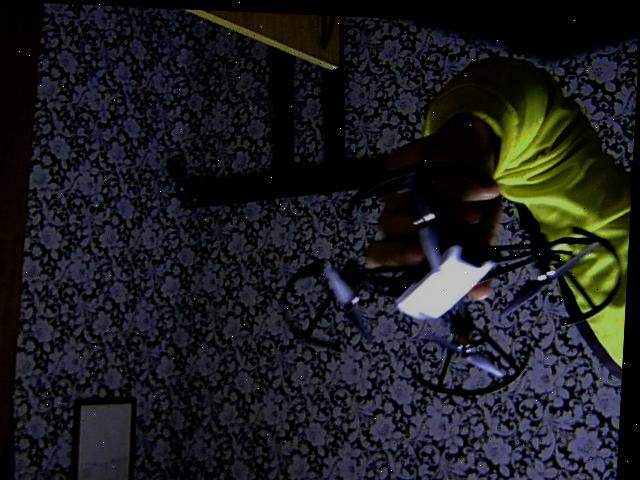drone: (283, 138, 634, 400)
